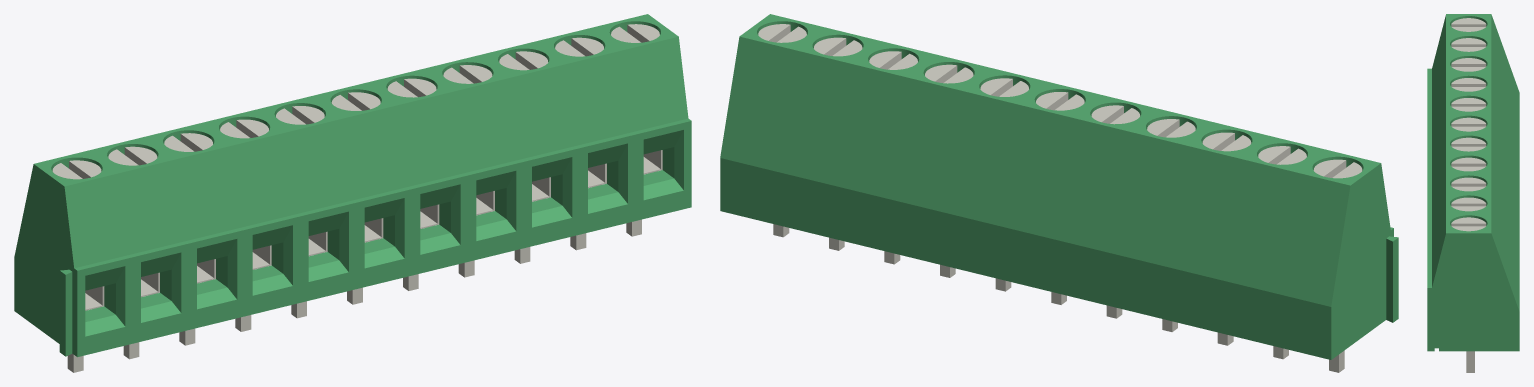
The model's file is kc-terminalblock_phoenix_mkds-1_5-11_1x11_p5.00mm_horizontal.glb.
3 views of the same model, side by side, from view 1: azimuth 30°, elevation 25°; view 2: azimuth 150°, elevation 25°; view 3: azimuth 270°, elevation 25° (orthographic). The views are drawn at different scales.
Parts seen in each view (by area): view 1: 0.08333333333333333_0.4166666666666667_0.16666666666666666_0, 0.6666666666666666_0.6666666666666666_0.5833333333333334_0.8; view 2: 0.08333333333333333_0.4166666666666667_0.16666666666666666_0, 0.6666666666666666_0.6666666666666666_0.5833333333333334_0.8; view 3: 0.08333333333333333_0.4166666666666667_0.16666666666666666_0, 0.6666666666666666_0.6666666666666666_0.5833333333333334_0.8.
Part boxes in pixels (x1,y1,x2,y2): 0.08333333333333333_0.4166666666666667_0.16666666666666666_0: (14, 14, 691, 357); 0.6666666666666666_0.6666666666666666_0.5833333333333334_0.8: (52, 24, 662, 372); 0.08333333333333333_0.4166666666666667_0.16666666666666666_0: (720, 14, 1398, 359); 0.6666666666666666_0.6666666666666666_0.5833333333333334_0.8: (758, 24, 1362, 372); 0.08333333333333333_0.4166666666666667_0.16666666666666666_0: (1427, 14, 1519, 351); 0.6666666666666666_0.6666666666666666_0.5833333333333334_0.8: (1451, 18, 1486, 372).
Bounding box in the file's own units: 5.57 × 1.73 × 0.9798.
